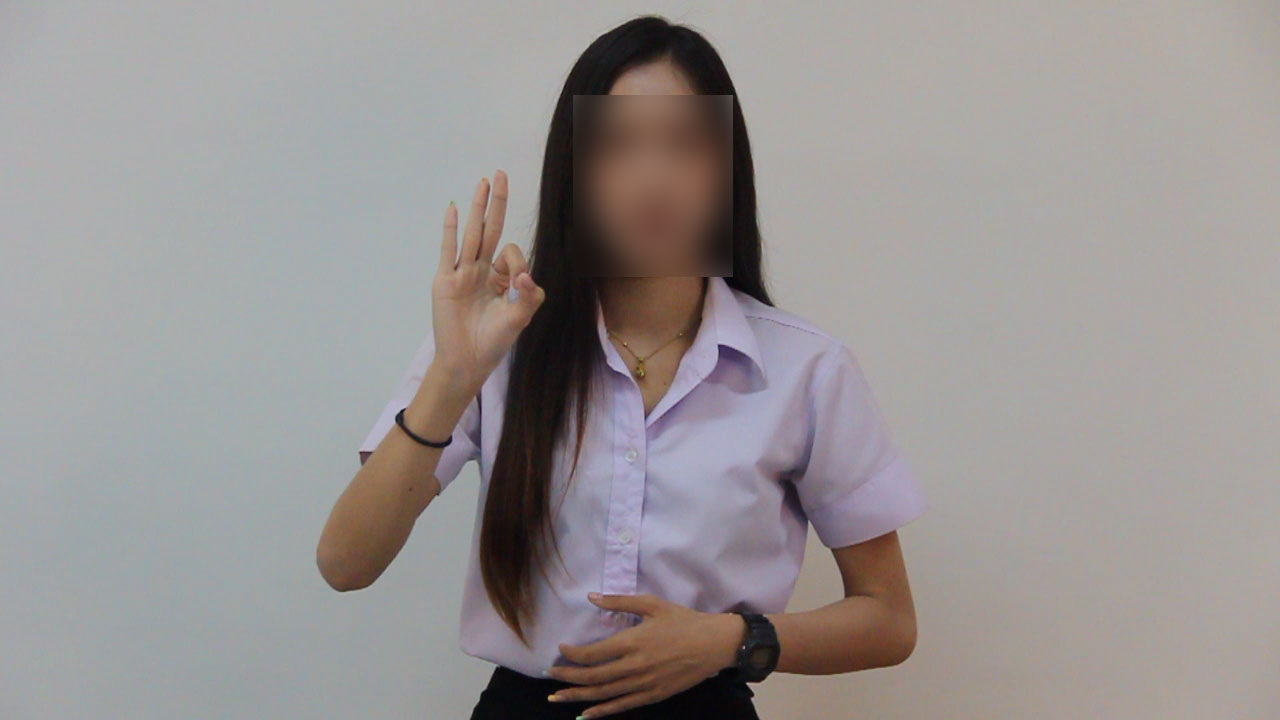for: (407, 156, 553, 382)
